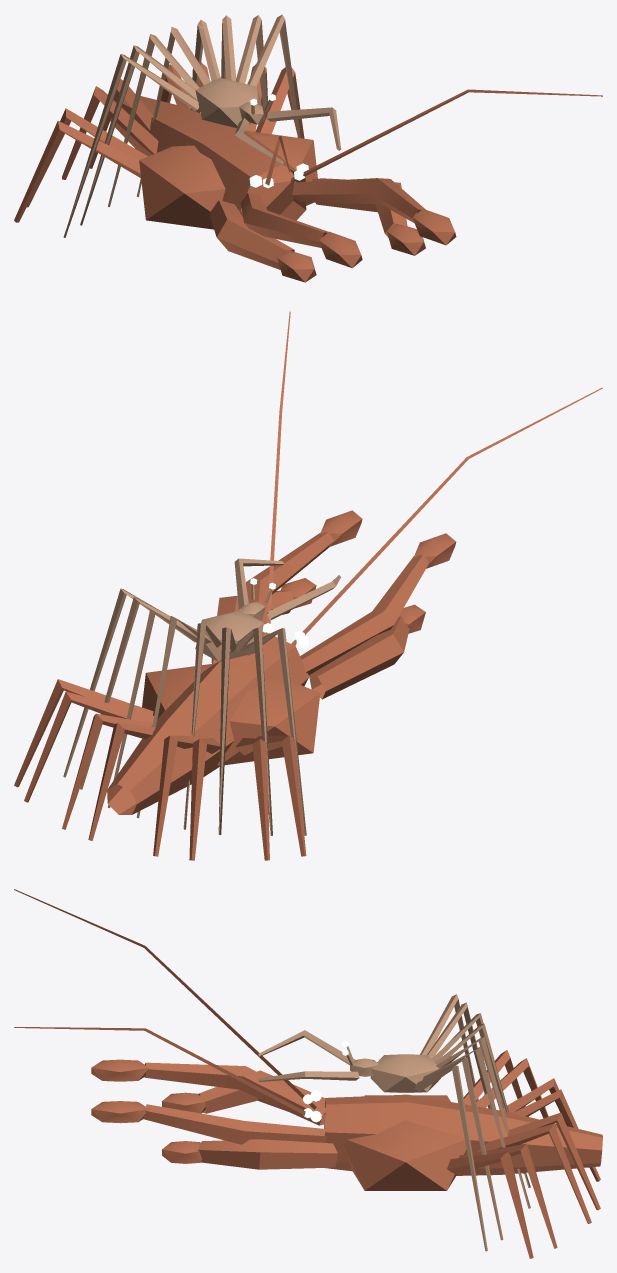
Rendered from Creatures.fbx.
3 renders of one model, top to bottom at view 1: azimuth 30°, elevation 25°; view 2: azimuth 150°, elevation 25°; view 3: azimuth 270°, elevation 25°, orthographic. The views are drawn at different scales.
Parts seen in each view (by area): view 1: crab_giant, lobster_giant, sea_spider; view 2: crab_giant, lobster_giant, sea_spider; view 3: crab_giant, lobster_giant, sea_spider.
Part boxes in pixels (box(x1,y1,x2,y2)): crab_giant: box(14, 62, 425, 282); lobster_giant: box(110, 89, 602, 268); sea_spider: box(63, 14, 341, 237); crab_giant: box(14, 578, 425, 860); lobster_giant: box(107, 311, 602, 814); sea_spider: box(63, 558, 340, 835); crab_giant: box(162, 1050, 600, 1258); lobster_giant: box(14, 889, 602, 1175); sea_spider: box(258, 994, 530, 1251).
Size of the model in its own units: 2.01 by 1.63 by 3.61.
